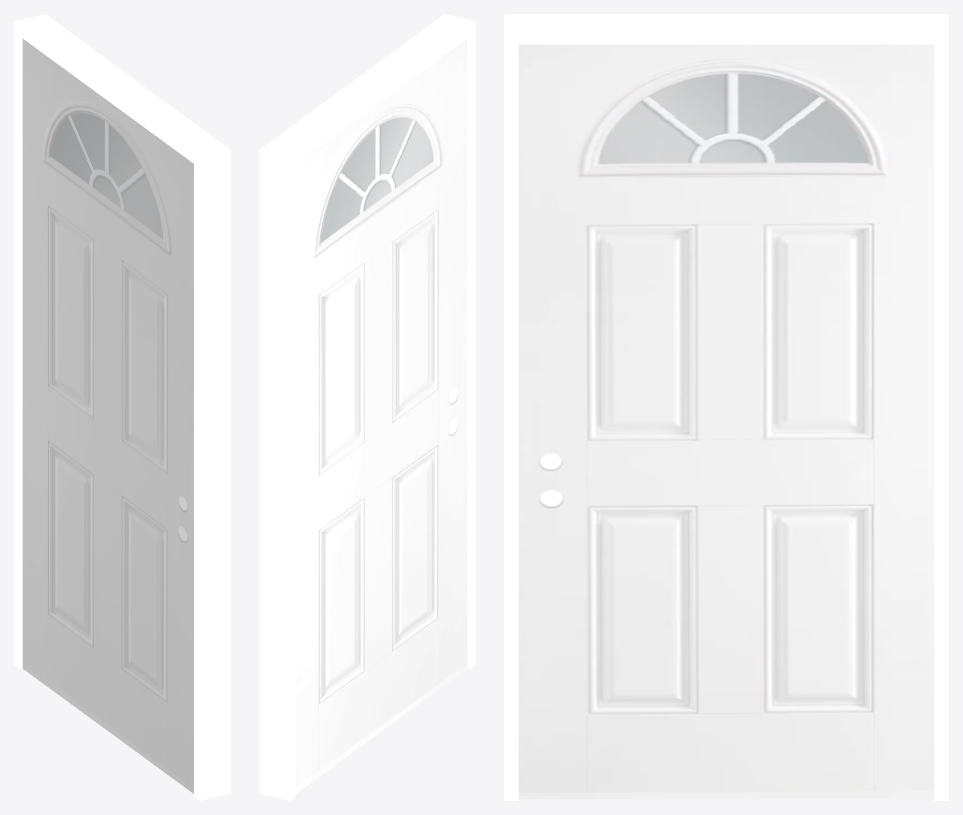
Rendered from 5_lite_walkin.04b2ffdc.gltf.
3 views of the same model, side by side, from view 1: azimuth 30°, elevation 25°; view 2: azimuth 150°, elevation 25°; view 3: azimuth 270°, elevation 25° (orthographic). The views are drawn at different scales.
Parts seen in each view (by area): view 1: Doors, trims; view 2: Doors, trims; view 3: Doors, trims.
Boxes of the visible parts, left/top/right/bottom form: Doors: left=22, top=39, right=193, bottom=793; trims: left=14, top=14, right=230, bottom=800; Doors: left=296, top=39, right=467, bottom=793; trims: left=259, top=14, right=475, bottom=800; Doors: left=518, top=44, right=934, bottom=799; trims: left=504, top=14, right=948, bottom=800.
Bounding box in the file's own units: 0.302 × 6.01 × 3.14.
Materials: 2 (1 with a texture image).
